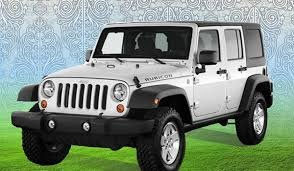mobil: (20, 16, 270, 154)
